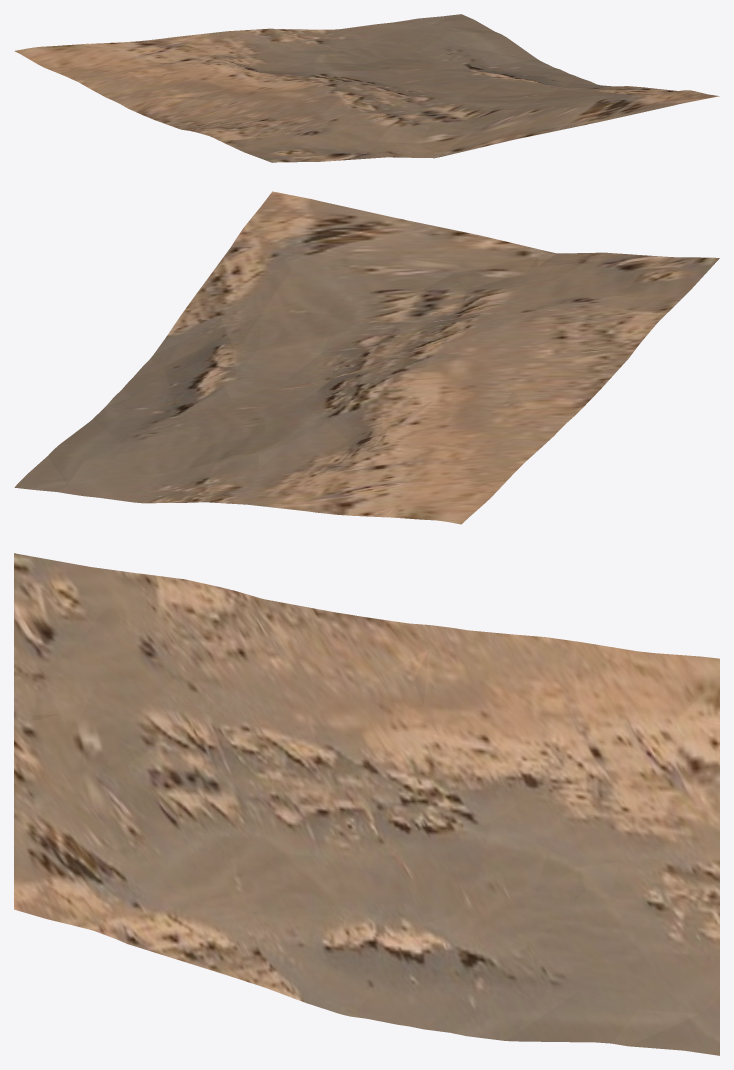
The picture shows the model from 3 angles, top to bottom: view 1: azimuth 30°, elevation 25°; view 2: azimuth 150°, elevation 25°; view 3: azimuth 270°, elevation 25°; orthographic projection. The views are drawn at different scales.
Bounding box in the file's own units: 2.09 × 0.6675 × 2.09.
3 materials, 3 textured.
